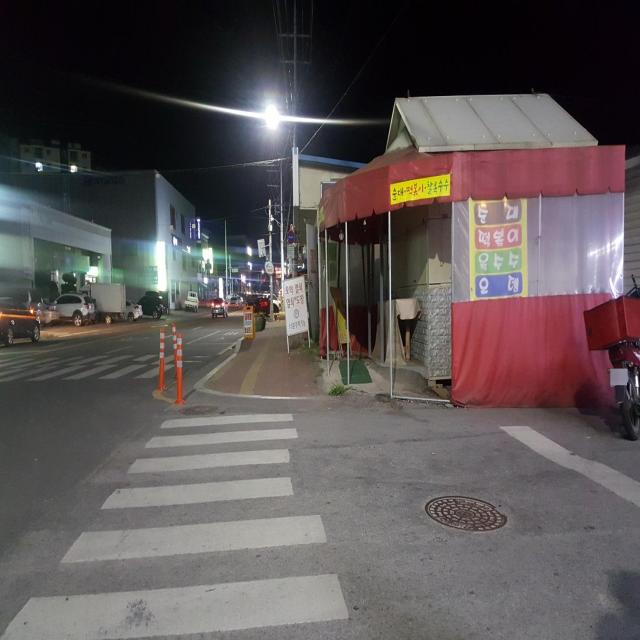횡단보도: (2, 408, 352, 636), (0, 348, 160, 379)
